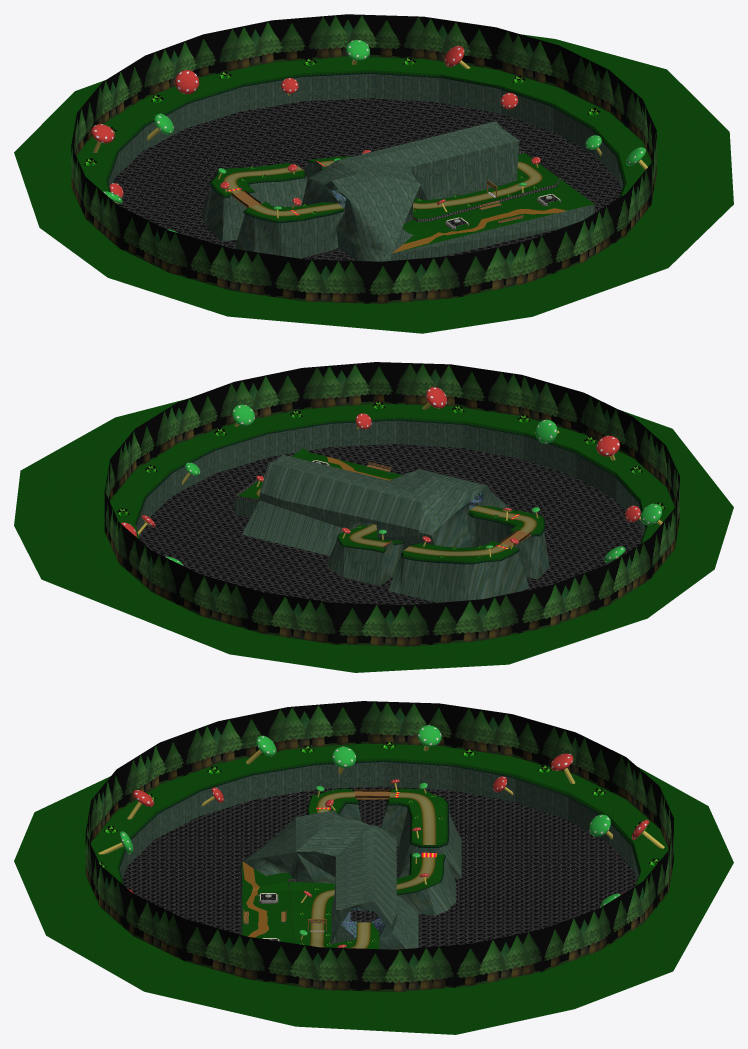
3 views of the same model, one above another, from view 1: azimuth 30°, elevation 25°; view 2: azimuth 150°, elevation 25°; view 3: azimuth 270°, elevation 25° (orthographic). The views are drawn at different scales.
Parts seen in each view (by area): view 1: FINAL2-SKP--grass, FINAL2-SKP--bg, FINAL2-SKP--bergauen, FINAL2-SKP--wasser, FINAL2-SKP--ostehen, FINAL2-SKP--road2, FINAL2-SKP--mat8, FINAL2-SKP--mat1, FINAL2-SKP--pfad, FINAL2-SKP--bush, FINAL2-SKP--zaun; view 2: FINAL2-SKP--grass, FINAL2-SKP--bg, FINAL2-SKP--bergauen, FINAL2-SKP--wasser, FINAL2-SKP--ostehen, FINAL2-SKP--mat1, FINAL2-SKP--road2, FINAL2-SKP--mat8, FINAL2-SKP--bush; view 3: FINAL2-SKP--grass, FINAL2-SKP--bg, FINAL2-SKP--wasser, FINAL2-SKP--bergauen, FINAL2-SKP--ostehen, FINAL2-SKP--road2, FINAL2-SKP--mat1, FINAL2-SKP--mat8, FINAL2-SKP--Material3, FINAL2-SKP--bush, FINAL2-SKP--pfad.
Boxes of the visible parts, x1,y1,x2,y2 form: FINAL2-SKP--grass: [14, 34, 733, 333]; FINAL2-SKP--bg: [71, 14, 656, 303]; FINAL2-SKP--bergauen: [108, 73, 623, 261]; FINAL2-SKP--wasser: [113, 98, 621, 260]; FINAL2-SKP--ostehen: [105, 70, 626, 223]; FINAL2-SKP--road2: [222, 160, 543, 216]; FINAL2-SKP--mat8: [91, 45, 540, 205]; FINAL2-SKP--mat1: [102, 39, 645, 233]; FINAL2-SKP--pfad: [392, 208, 566, 253]; FINAL2-SKP--bush: [84, 57, 600, 213]; FINAL2-SKP--zaun: [413, 150, 560, 221]; FINAL2-SKP--grass: [14, 399, 733, 672]; FINAL2-SKP--bg: [104, 362, 679, 646]; FINAL2-SKP--bergauen: [136, 420, 645, 602]; FINAL2-SKP--wasser: [139, 444, 642, 605]; FINAL2-SKP--ostehen: [135, 416, 647, 564]; FINAL2-SKP--mat1: [165, 404, 661, 565]; FINAL2-SKP--road2: [255, 487, 537, 556]; FINAL2-SKP--mat8: [120, 387, 640, 543]; FINAL2-SKP--bush: [116, 401, 665, 558]; FINAL2-SKP--grass: [14, 743, 733, 1034]; FINAL2-SKP--bg: [85, 701, 673, 992]; FINAL2-SKP--wasser: [122, 786, 636, 947]; FINAL2-SKP--bergauen: [119, 762, 638, 949]; FINAL2-SKP--ostehen: [117, 758, 640, 895]; FINAL2-SKP--road2: [309, 791, 436, 948]; FINAL2-SKP--mat1: [119, 725, 620, 935]; FINAL2-SKP--mat8: [127, 753, 649, 947]; FINAL2-SKP--Material3: [98, 746, 664, 939]; FINAL2-SKP--bush: [99, 742, 659, 945]; FINAL2-SKP--pfad: [242, 861, 268, 937].
Size of the model in its own units: 157370 by 16744 by 154284.
Materials: 31 (31 with a texture image).
